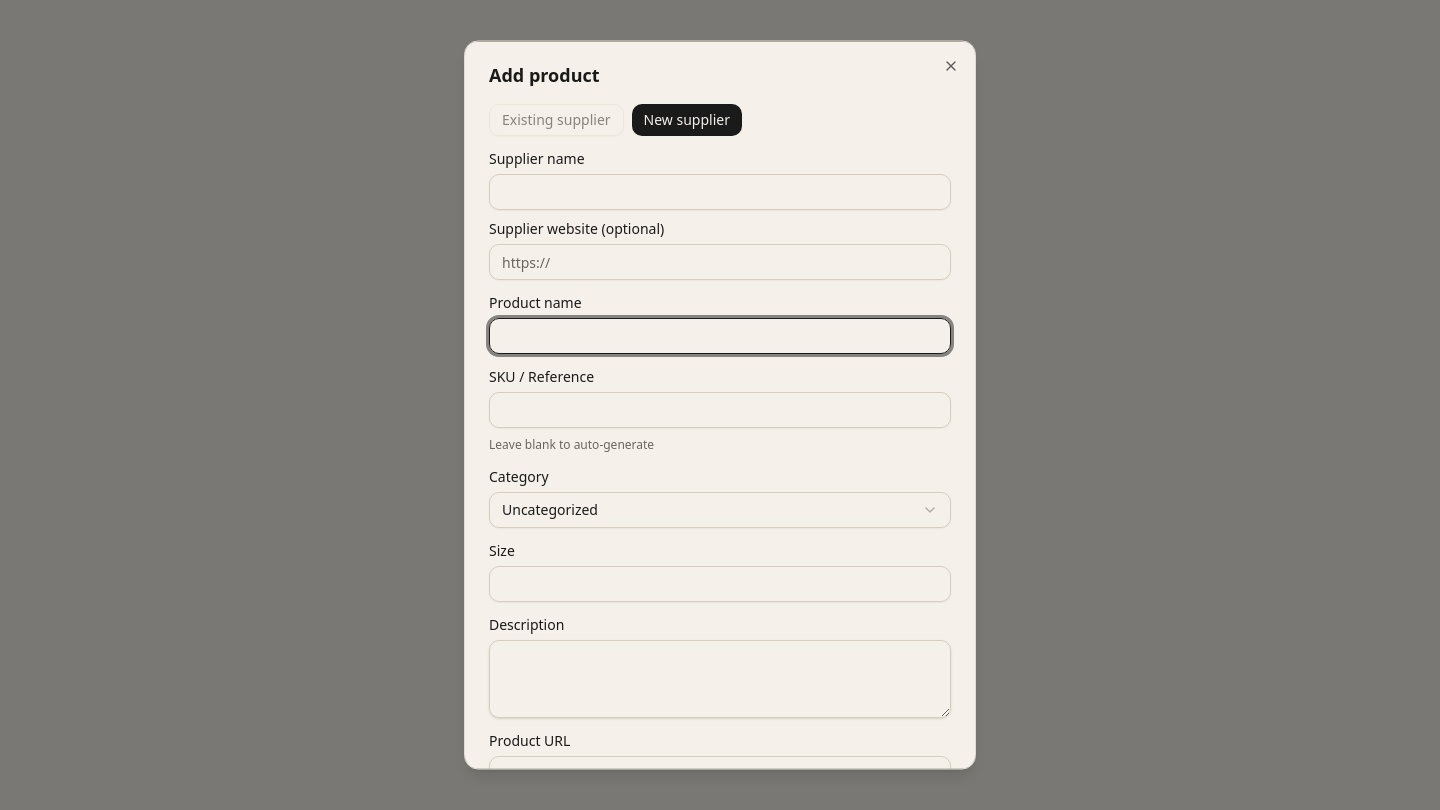
Scenario: ProductCreateDialog — image from a supplier link › does not create the product when the link is not https
The image size is (1440, 810).
In the field labelled "Supplier name": coordinates (720, 192) [489,174,951,210], type "Supplier X"
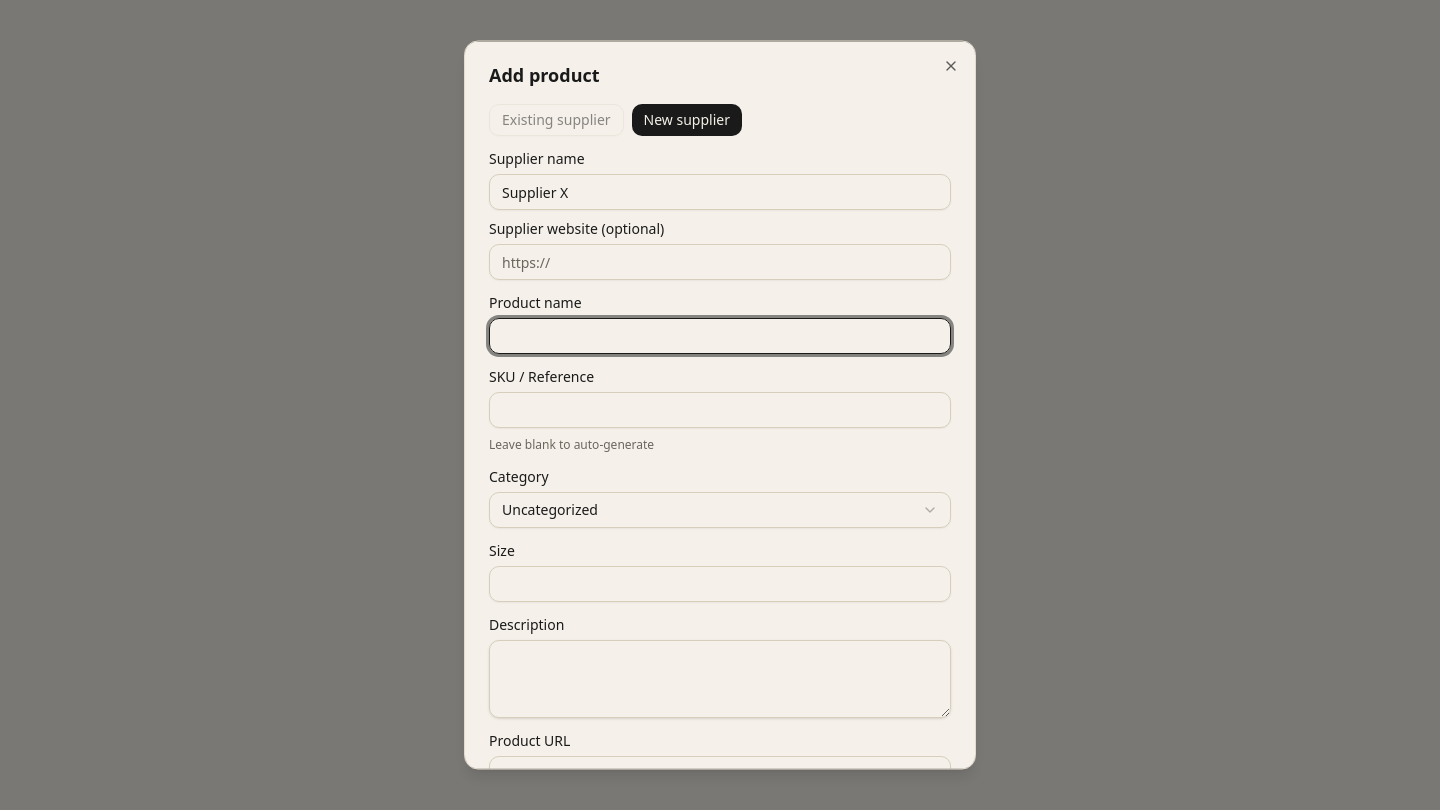
In the field labelled "Product name": coordinates (720, 336) [489,318,951,354], type "Product X"
(page scrolled)
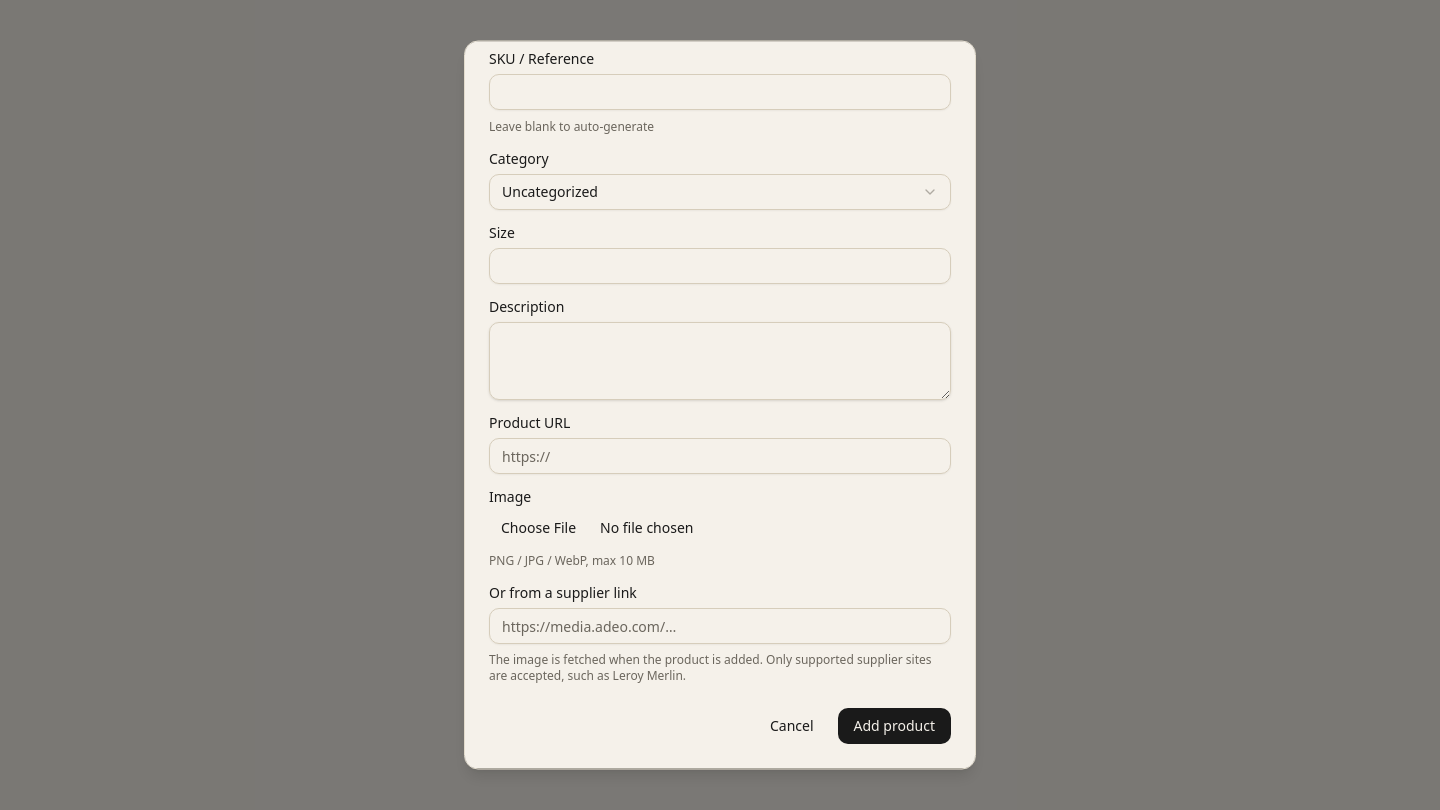
In the field labelled "Or from a supplier link": coordinates (720, 626) [489,608,951,644], type "http://media.adeo.com/photo.jpg"
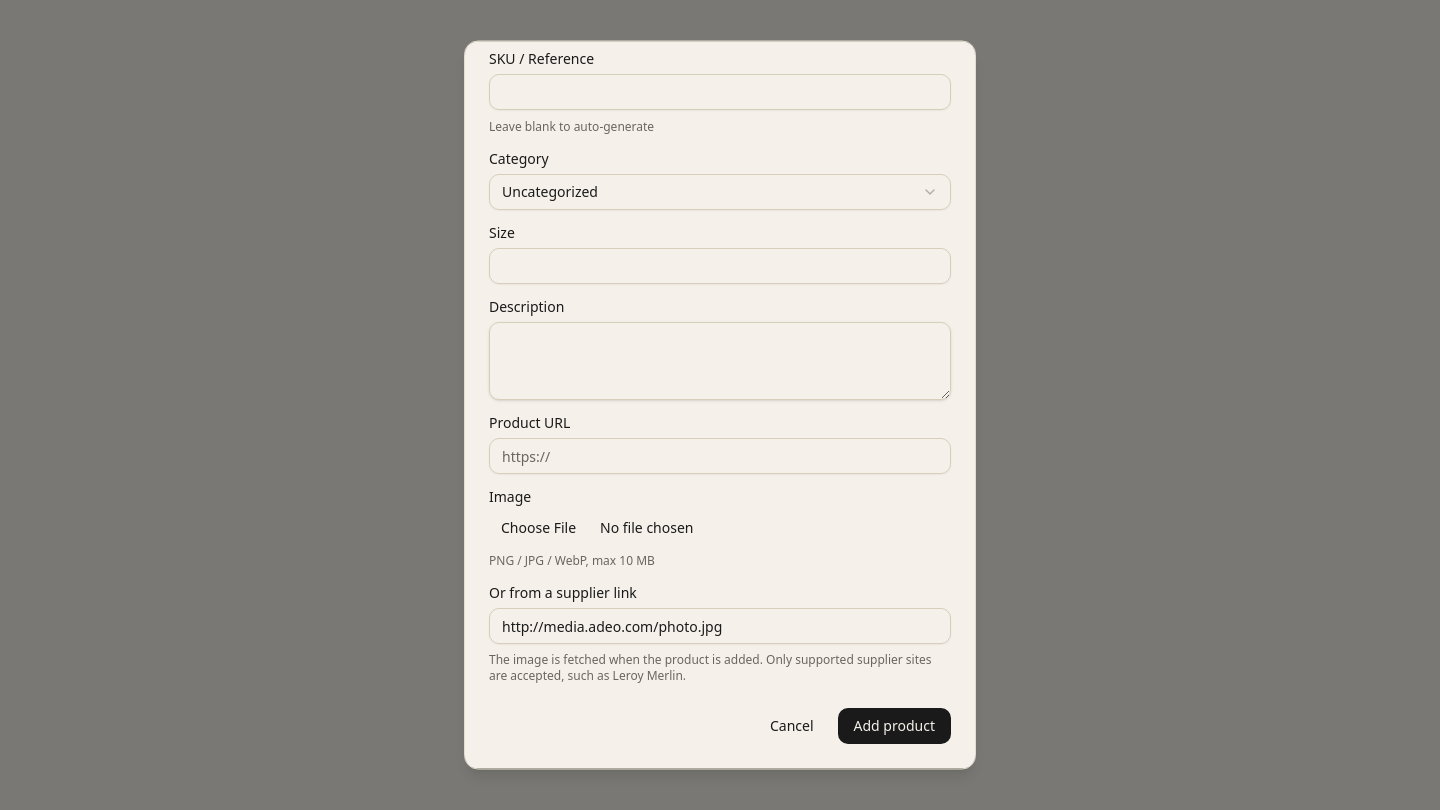
Click the button "Add product": coordinates (894, 726) [838,708,951,744]
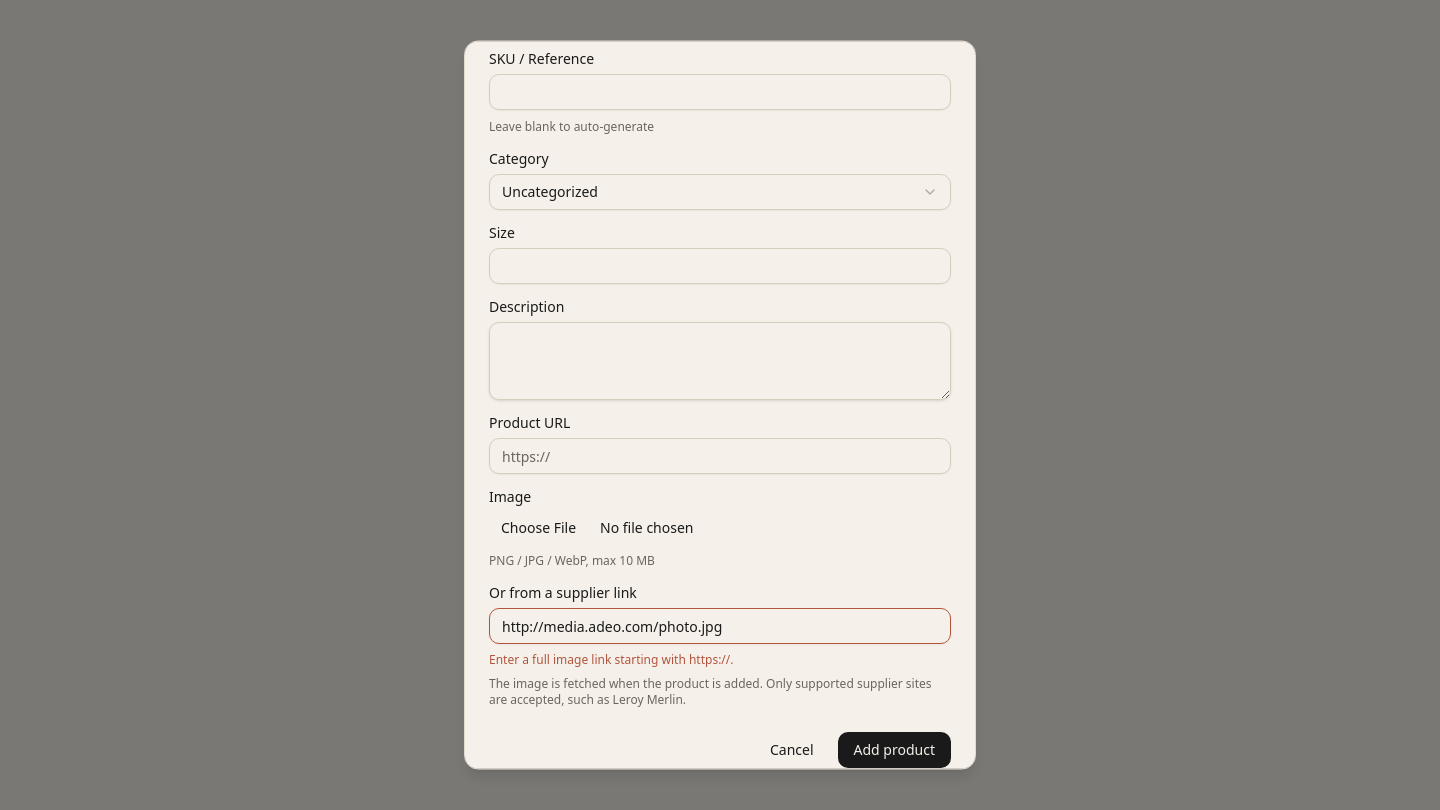
Now the message reads "Enter a full image link starting with https://.", box [489,652,734,668]
